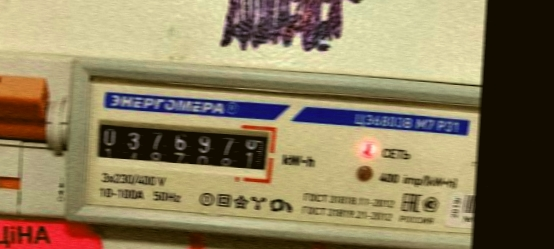0: (103, 123, 117, 144)
1: (244, 147, 256, 165)
3: (127, 127, 141, 147)
6: (174, 126, 188, 148)
7: (221, 131, 235, 154), (150, 126, 164, 148)
9: (197, 130, 211, 152)
screen: (88, 107, 282, 182)
